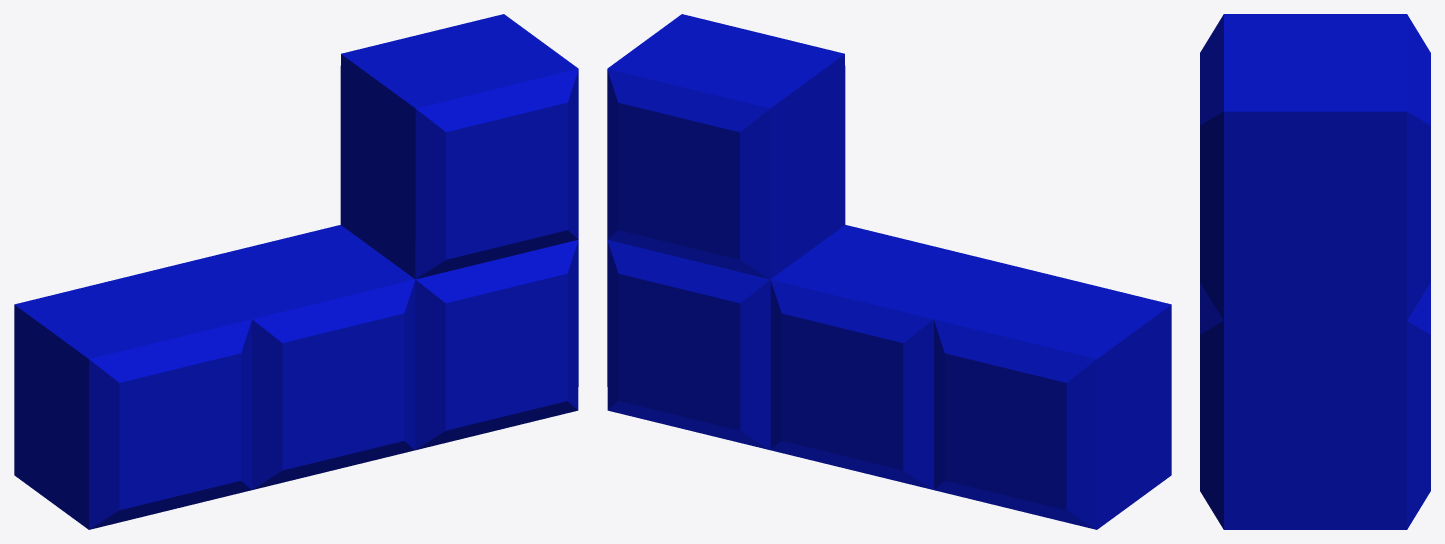
The model's file is JMino.fbx.
3 renders of one model, left to right at view 1: azimuth 30°, elevation 25°; view 2: azimuth 150°, elevation 25°; view 3: azimuth 270°, elevation 25°, orthographic. The views are drawn at different scales.
Parts seen in each view (by area): view 1: Cube; view 2: Cube; view 3: Cube.
Part boxes in pixels (box(x1,y1,x2,y2)): Cube: box(14, 14, 578, 529); Cube: box(607, 14, 1171, 529); Cube: box(1200, 14, 1430, 529).
Size of the model in its own units: 300 by 200 by 100.
